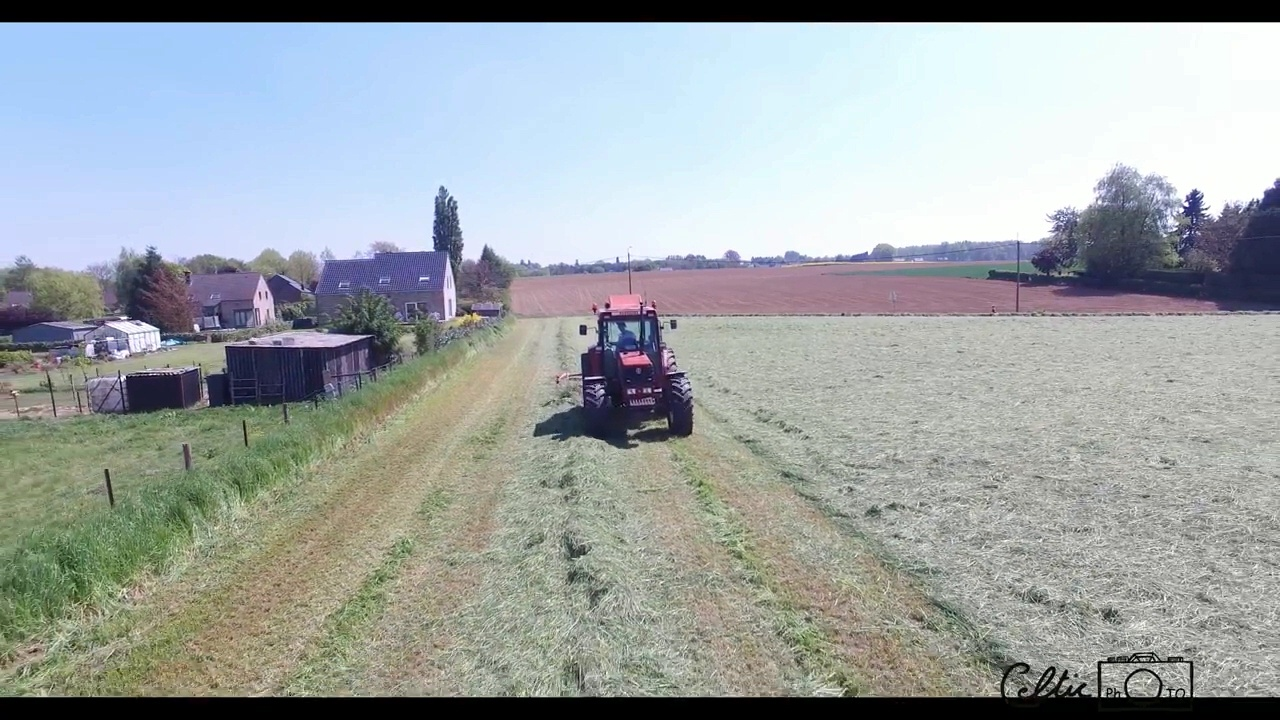traktor: (583, 293, 692, 436)
